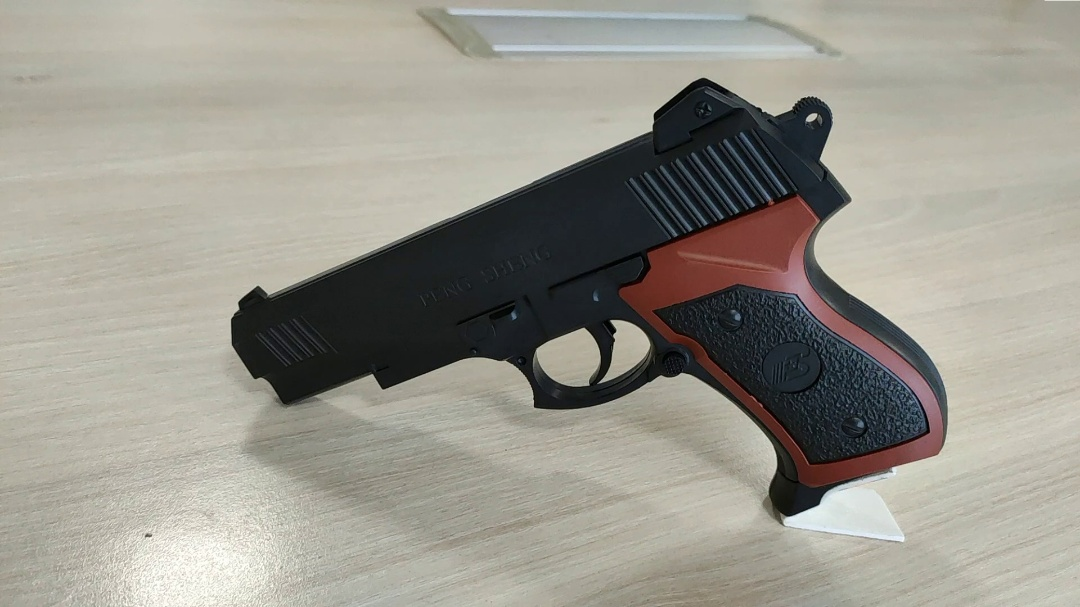gun: (225, 71, 952, 517)
